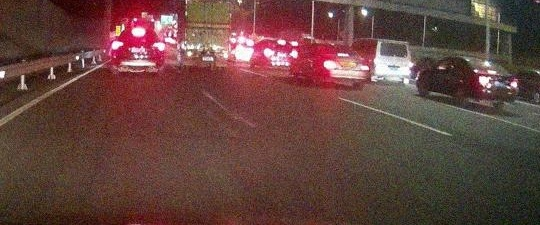L_light: (112, 42, 123, 49), (324, 61, 335, 68), (478, 77, 489, 84), (185, 51, 195, 56), (264, 50, 273, 55), (375, 58, 380, 67)
R_light: (152, 42, 164, 50), (360, 65, 368, 71), (221, 54, 230, 59), (291, 51, 298, 57), (510, 81, 517, 87), (407, 60, 411, 70)
T_light: (132, 30, 145, 35), (337, 52, 349, 57), (487, 70, 497, 74), (278, 40, 286, 44), (391, 42, 397, 45), (205, 2, 213, 4)
night-brake: (467, 58, 517, 109), (111, 28, 165, 75), (319, 44, 369, 91), (264, 39, 298, 73)
night-no: (184, 0, 230, 71), (374, 39, 412, 87)
